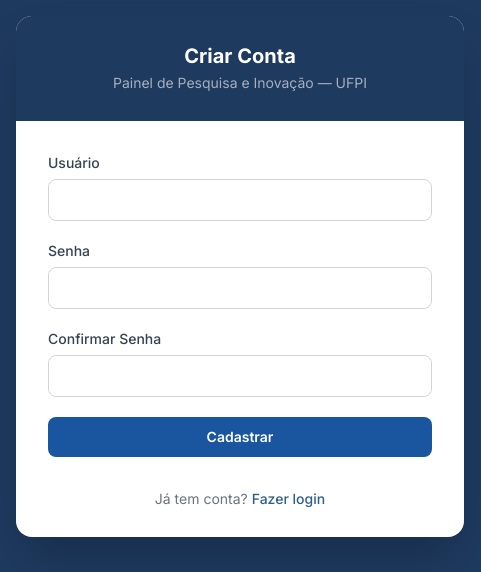
Cadastro › exibe mensagem de sucesso após cadastro bem-sucedido
Type "usuario" into the field labelled "Usuário".
click(240, 200); type("usuario")  # box [48,178,432,220]
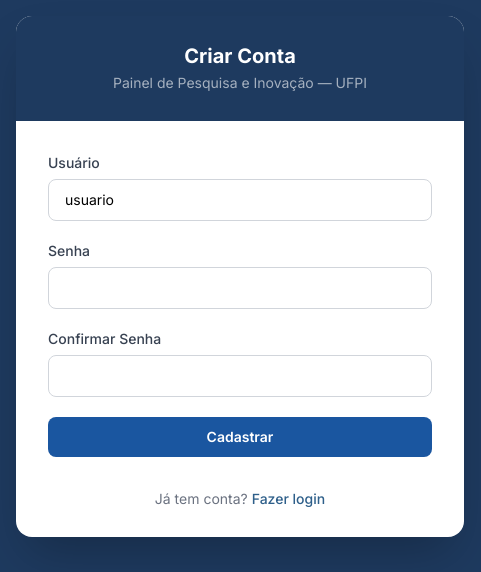
Type "senha123" into the password field labelled "Senha".
click(240, 288); type("senha123")  # box [48,266,432,308]
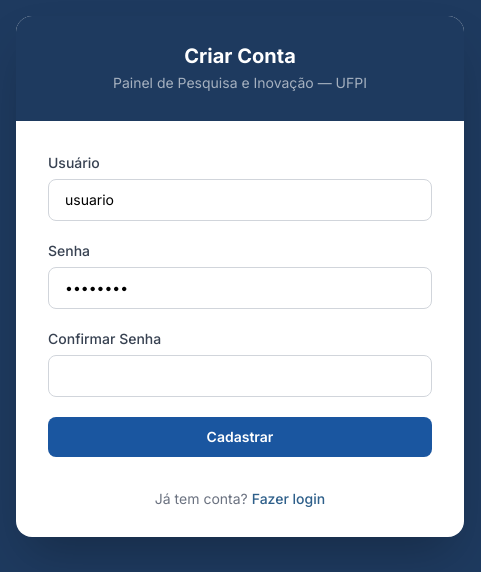
Type "senha123" into the password field labelled "Confirmar Senha".
click(240, 376); type("senha123")  # box [48,354,432,396]
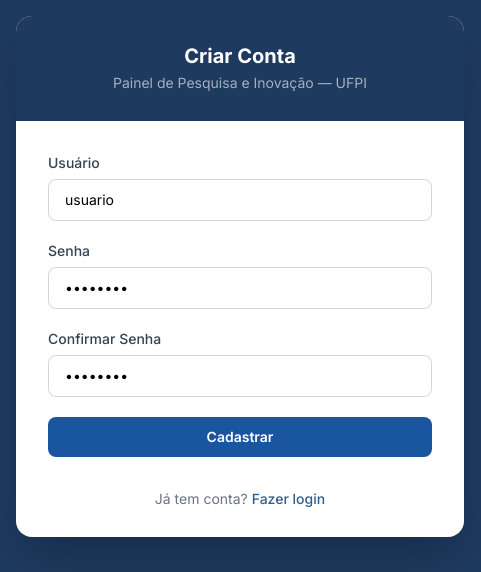
Click the button "Cadastrar".
click(240, 436)  # box [48,416,432,456]
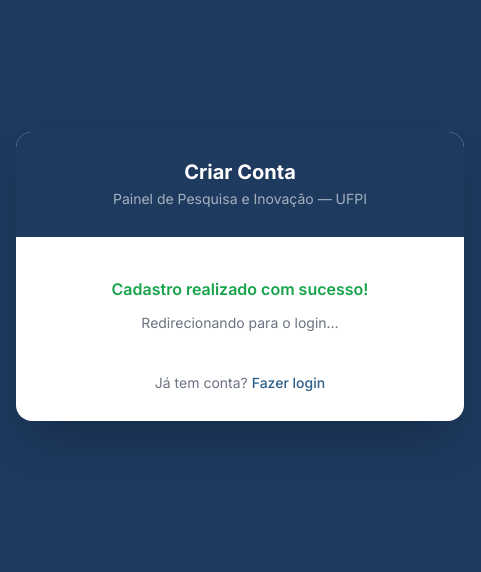
Check: the text "Cadastro realizado com sucesso!" is shown, box [112,278,368,298]
